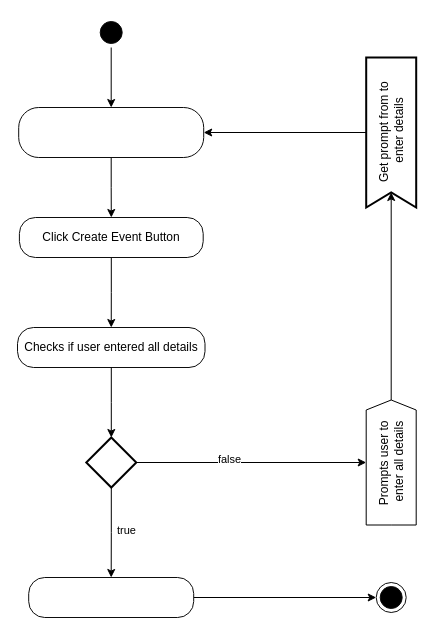
This 435x635 diagram has some shape labels left out. Each missing label, with the centre of its shape:
Create event and save into DB: the point at 111,597
Enter Details (name, date, time, description): the point at 111,132
